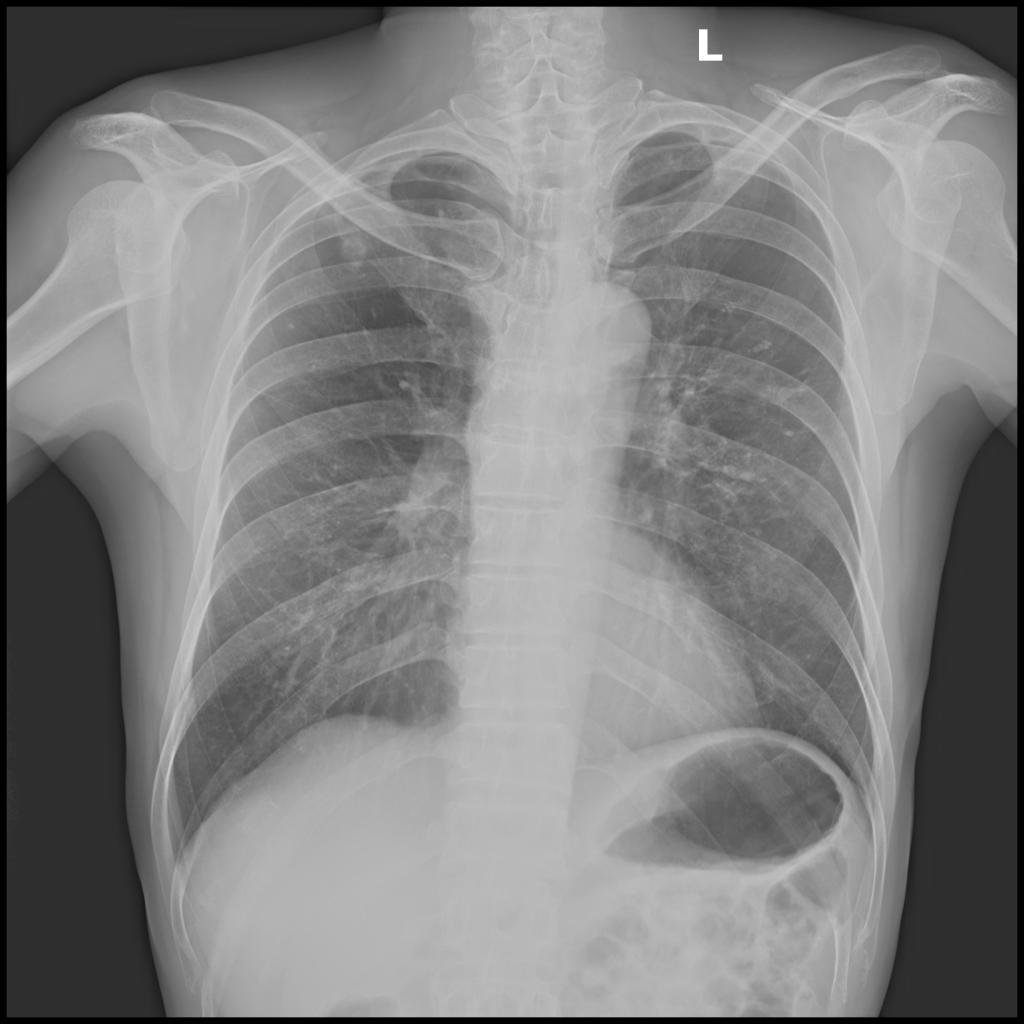Nodule: (339, 236, 370, 273)
